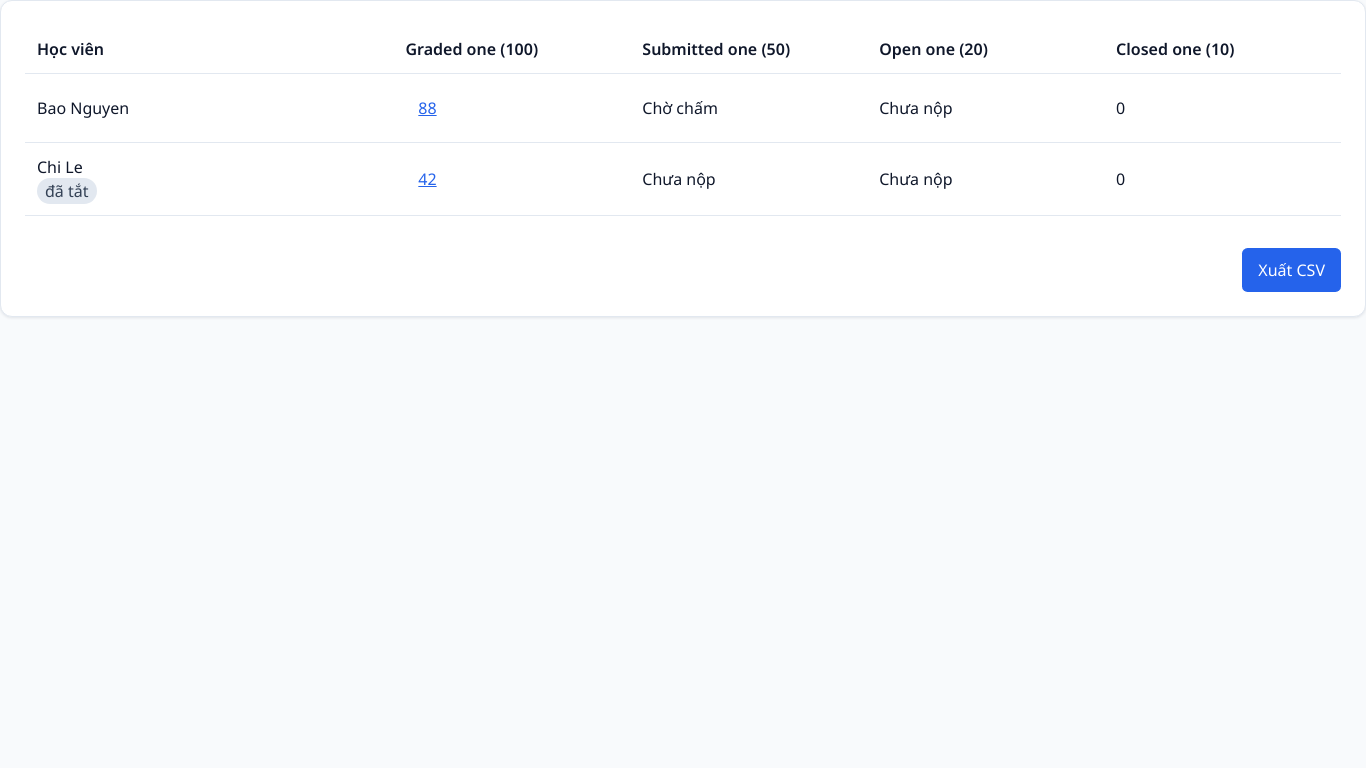
GradebookPanel › opens the grade dialog from a graded cell
What coordinates should you click on to do the following:
click the button named "Xem kết quả Bao Nguyen · Graded one"
I would click on:
 (428, 108)
Its box is [406,86,450,130].
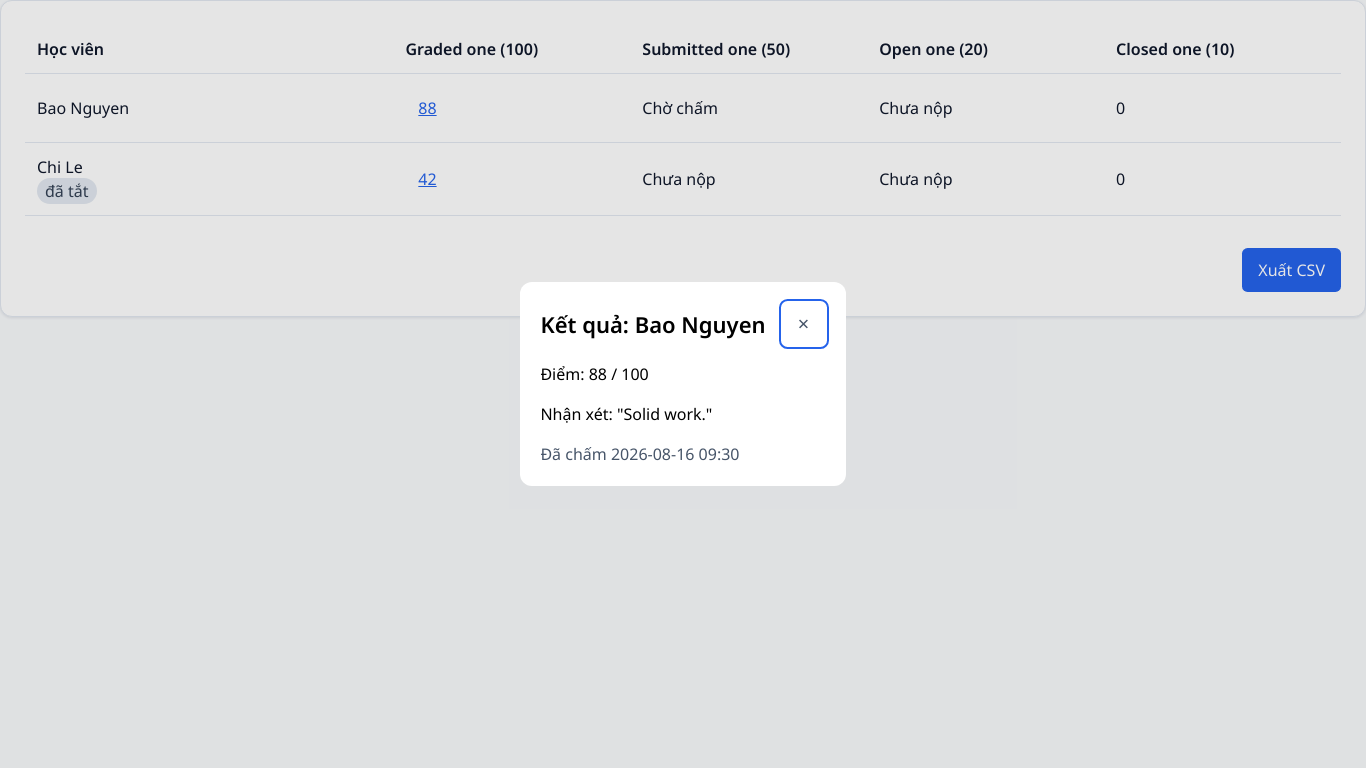
Expected: the text "Điểm: 88 / 100" is shown, [540,363,649,385]
Expected: the text "Nhận xét: \"Solid work.\"" is shown, [540,403,712,425]
